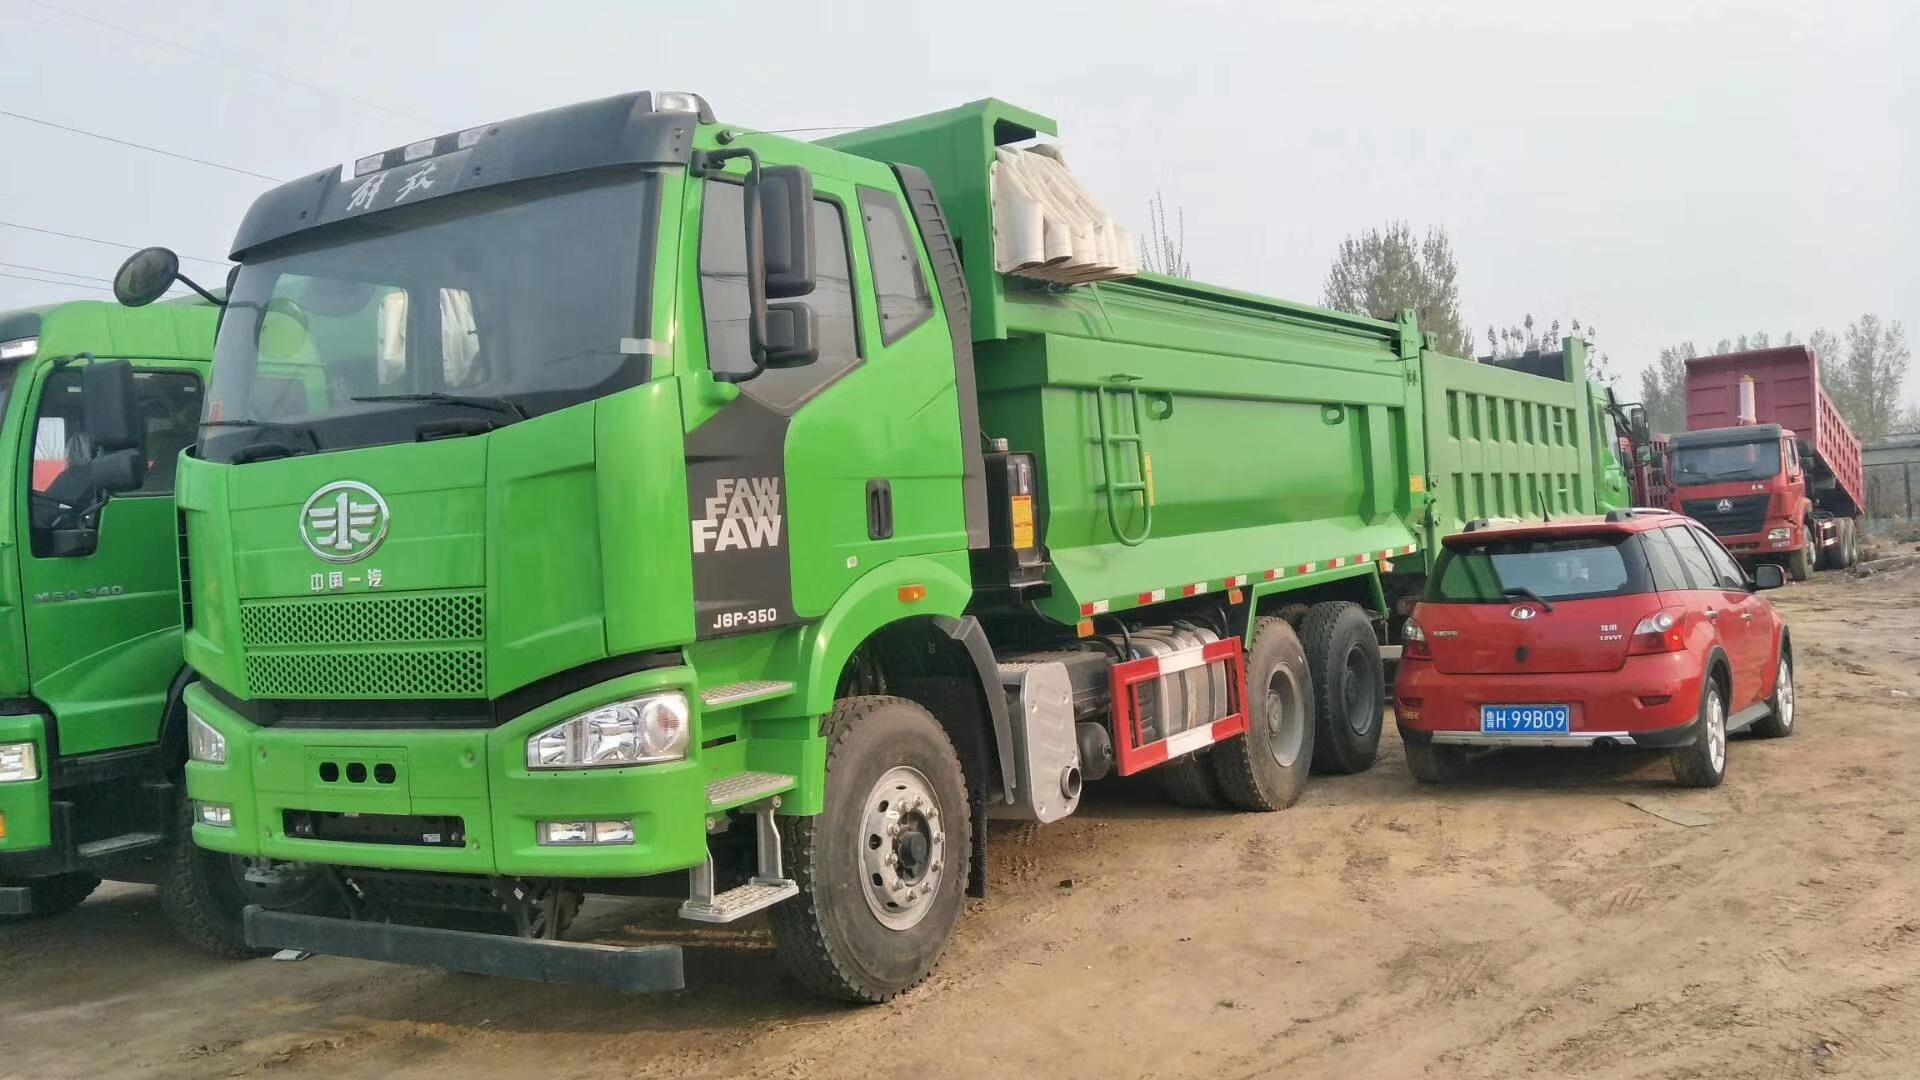truck: (187, 103, 1424, 1017)
